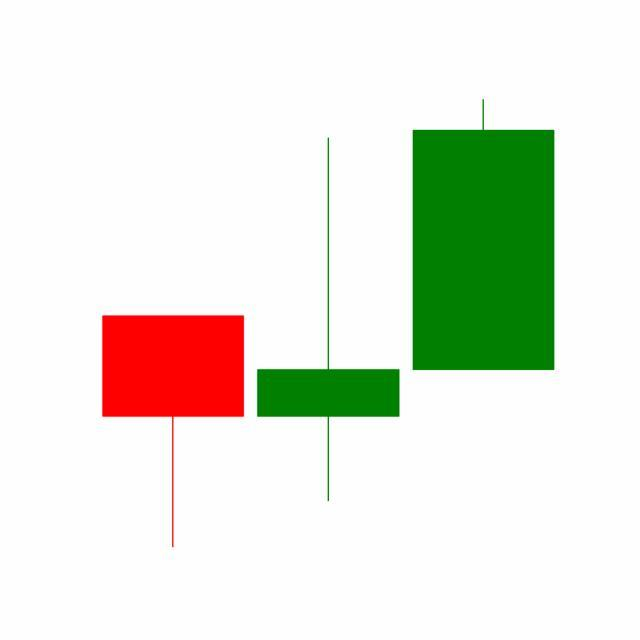Spinning Top: (250, 135, 407, 506)
